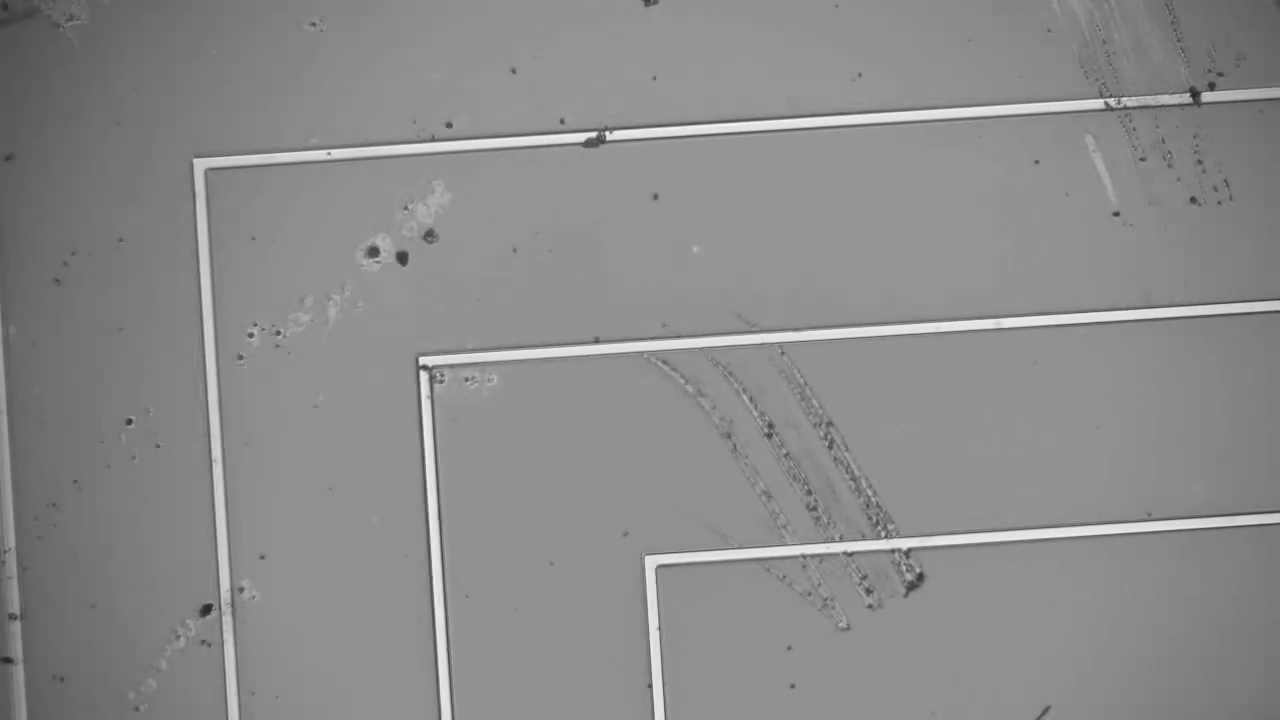scratch: (661, 315, 937, 629)
stains_enbedded: (577, 118, 618, 153), (1181, 80, 1207, 110)
